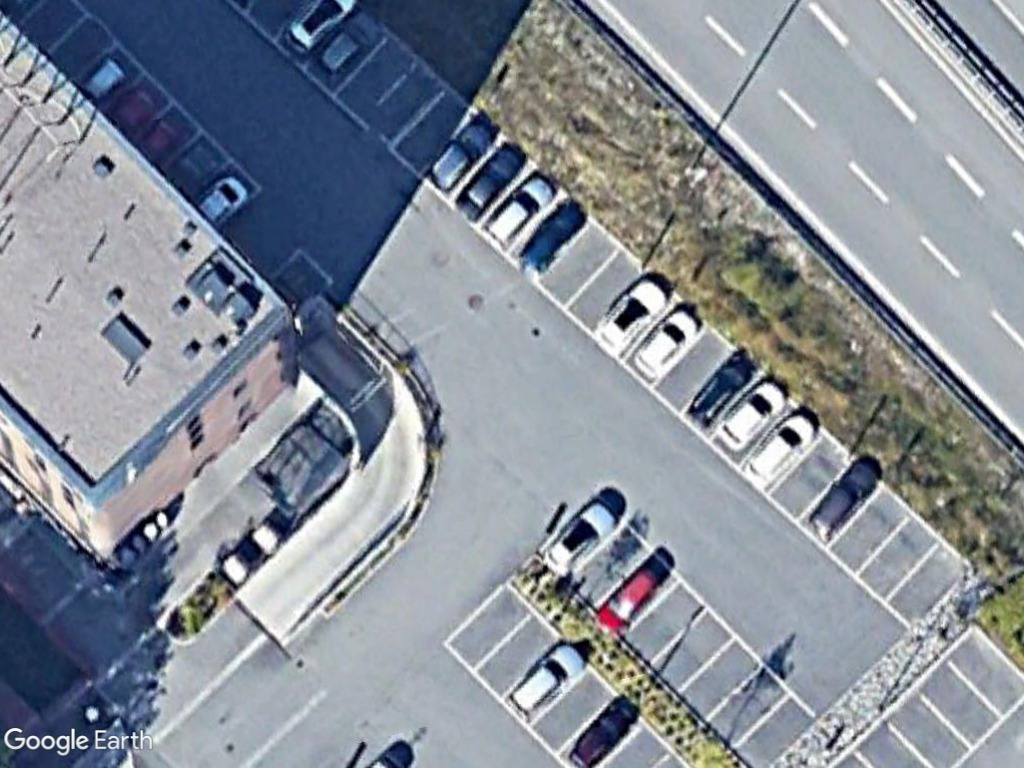car: (532, 497, 622, 582), (505, 636, 589, 722), (803, 454, 882, 543), (590, 274, 669, 361), (712, 372, 790, 455), (742, 410, 819, 487), (629, 304, 703, 382), (593, 559, 666, 636), (457, 141, 526, 222), (484, 171, 558, 246), (428, 117, 499, 195), (567, 696, 643, 768), (688, 353, 755, 428), (518, 201, 581, 273)
